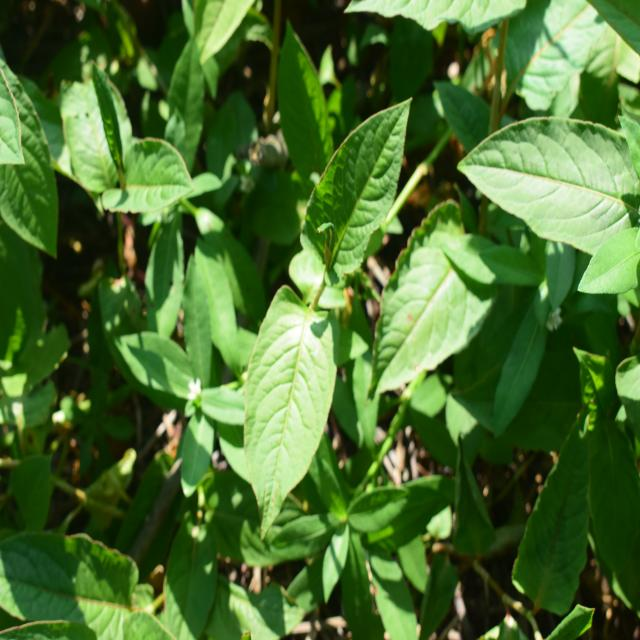Chinese_knotweed: (238, 108, 427, 495)
